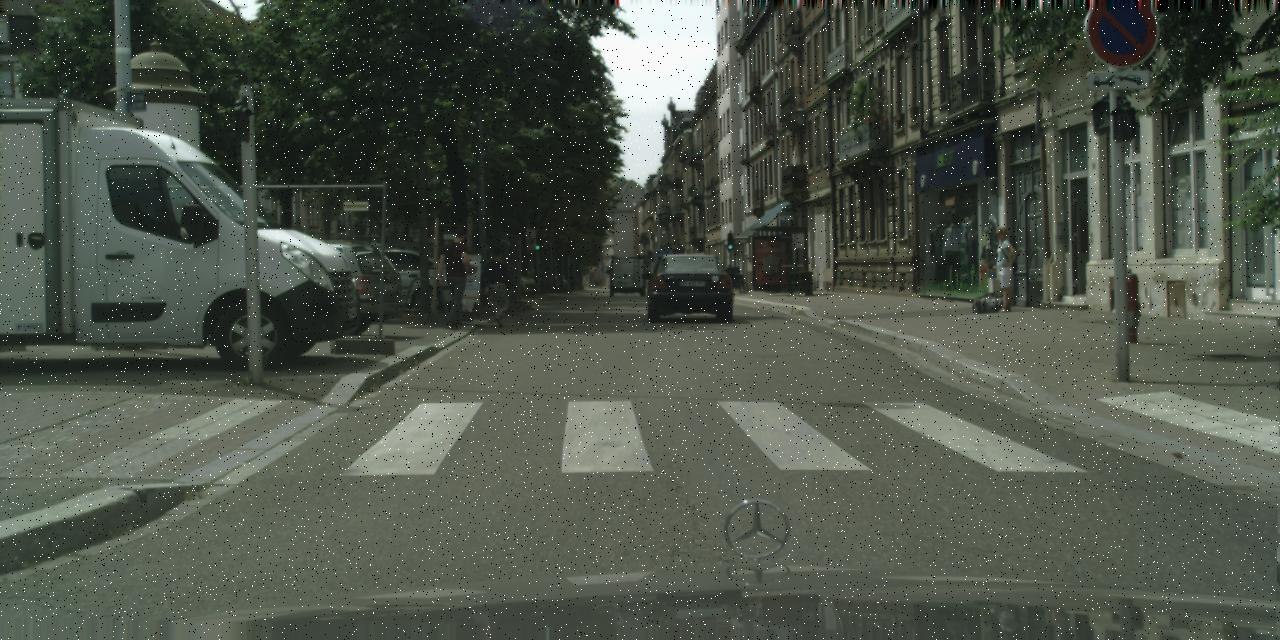ped: (437, 227, 478, 329), (986, 225, 1020, 312), (480, 245, 514, 327)
